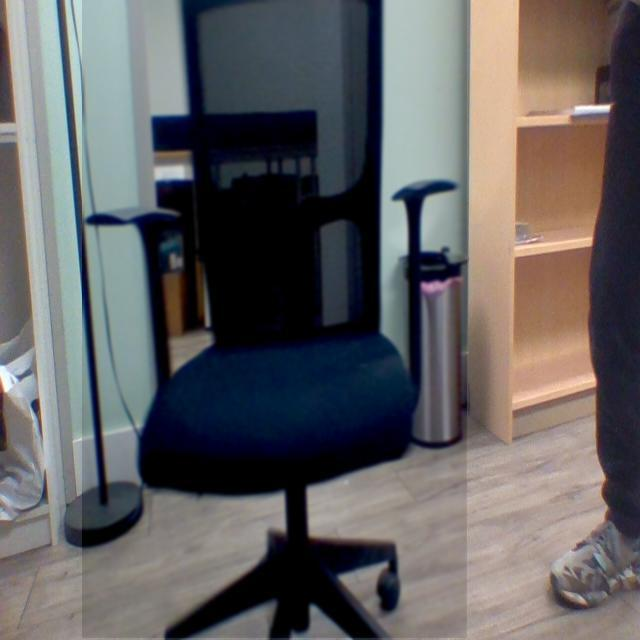chair: (82, 1, 468, 640)
